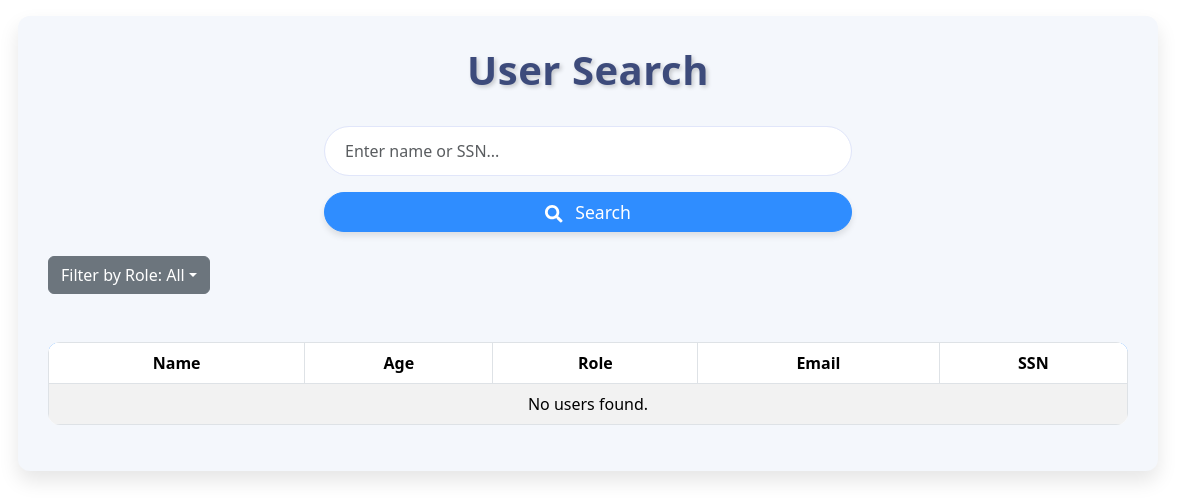
Test: App Component › displays loading message when data is being fetched
This screenshot has width=1177, height=500.
Click the button "Search": (588, 212) [324,192,852,232]
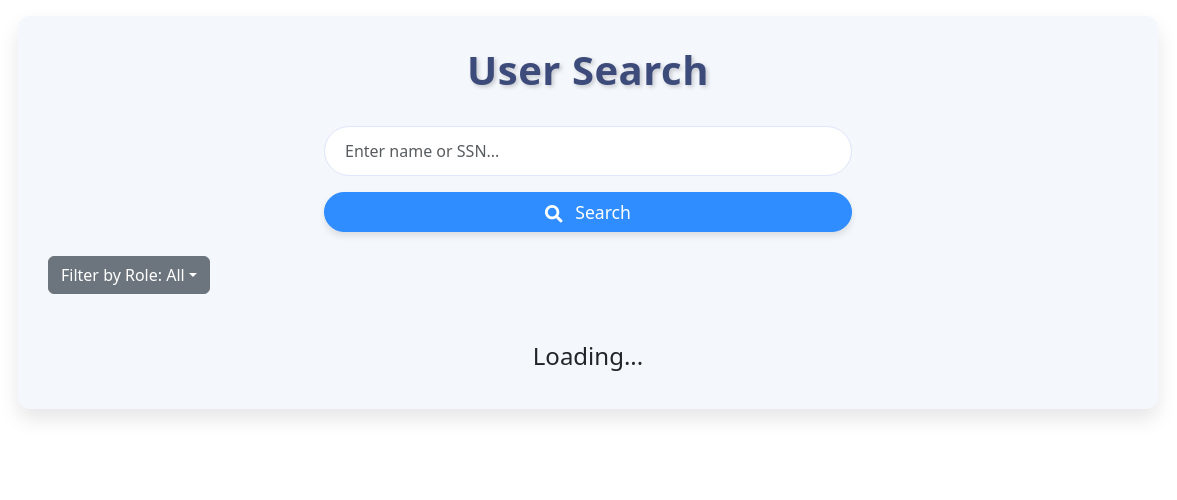
expect the heading "Loading..." is shown: met, box [533,339,643,372]
